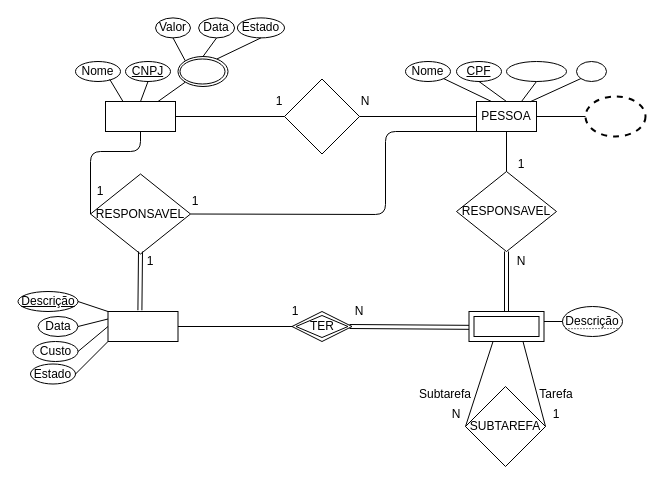
Some shapes in this 663 by 484 pixel diagram are drawn without their labels. Each missing label, with the centre of its shape:
"ASSOCIAR" belongs at pixel 322 116.
"Atuação" belongs at pixel 202 71.
"Custo Inscrição" belongs at pixel 615 116.
"EMPRESA" belongs at pixel 140 116.
"Número" belongs at pixel 536 71.
"SERVIÇOS" belongs at pixel 142 326.
"TAREFAS" belongs at pixel 506 326.
"Tipo" belongs at pixel 591 71.
